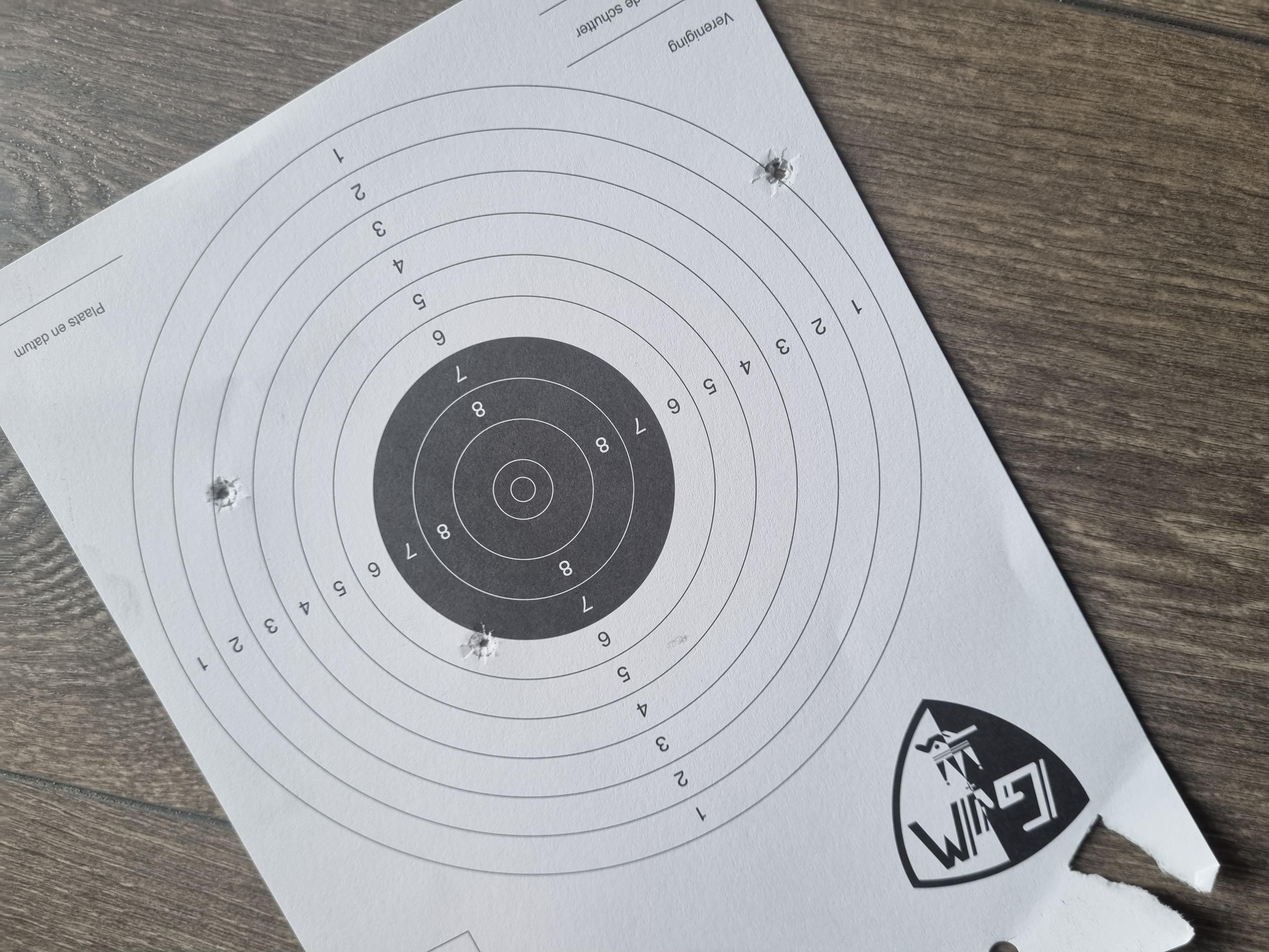hole: (1015, 564, 1066, 598), (388, 347, 438, 376), (587, 155, 635, 185)
